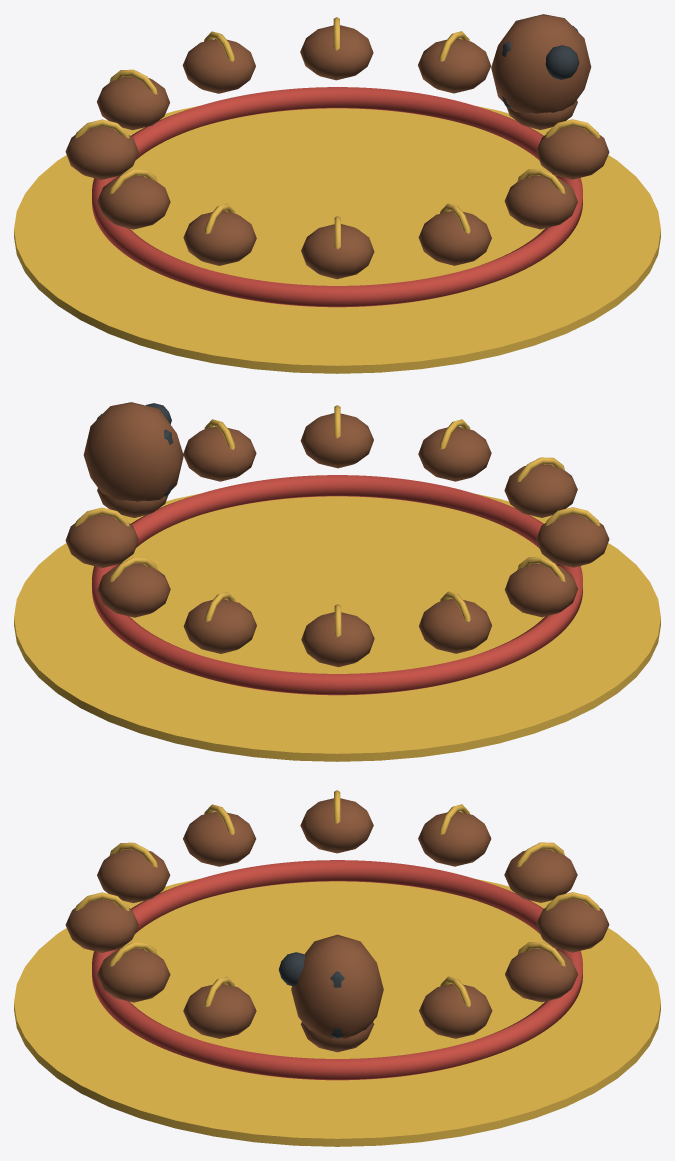
Rendered from slinky.glb.
3 renders of one model, top to bottom at view 1: azimuth 30°, elevation 25°; view 2: azimuth 150°, elevation 25°; view 3: azimuth 270°, elevation 25°, orthographic.
Bounding box in the file's own units: 4.4 × 1.28 × 4.4.
